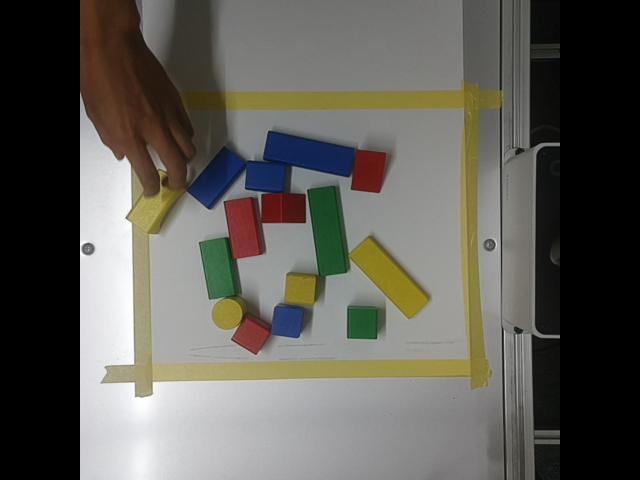Hand: (80, 0, 195, 195)
blue_cube: (271, 303, 304, 336)
blue_longrect: (263, 130, 354, 175)
blue_rect: (188, 146, 244, 208)
cylinder: (212, 296, 246, 328)
green_cube: (347, 305, 378, 338)
green_longrect: (307, 186, 347, 274)
green_rect: (199, 237, 240, 298)
half_cylinder: (245, 160, 286, 191)
red_cube: (231, 313, 270, 353)
red_rect: (224, 196, 263, 258)
triangle: (351, 149, 386, 191), (262, 194, 305, 221)
yellow_cube: (284, 271, 317, 304)
yellow_longrect: (349, 236, 428, 316)
yelow_rect: (126, 170, 185, 232)
